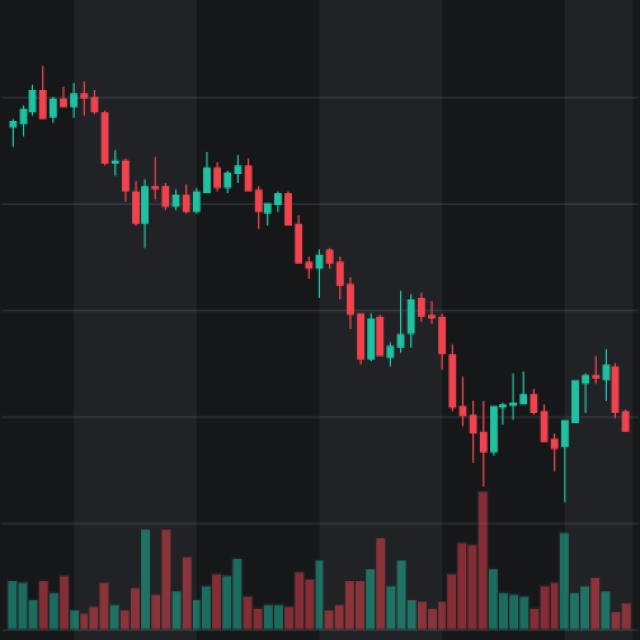Double-Bottom: (440, 334, 598, 484)
Support-breakout: (133, 157, 490, 470)
